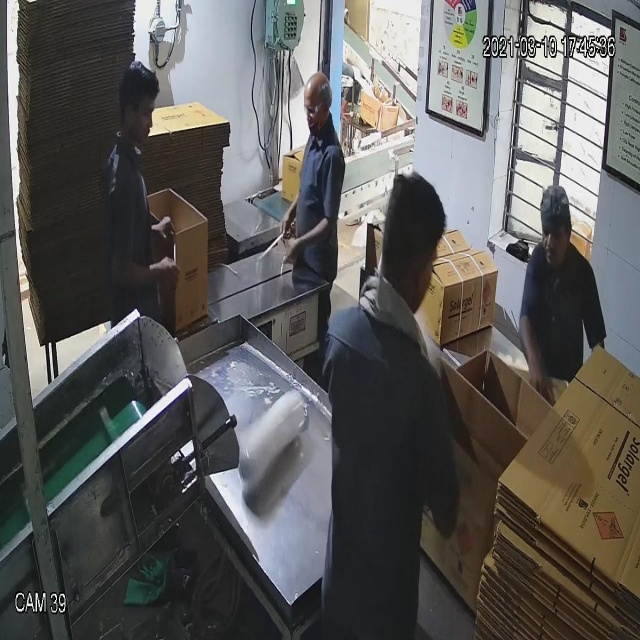Sin_guantes: (98, 233, 187, 307), (515, 297, 559, 404), (276, 210, 341, 279), (142, 198, 181, 257), (276, 198, 301, 246)
